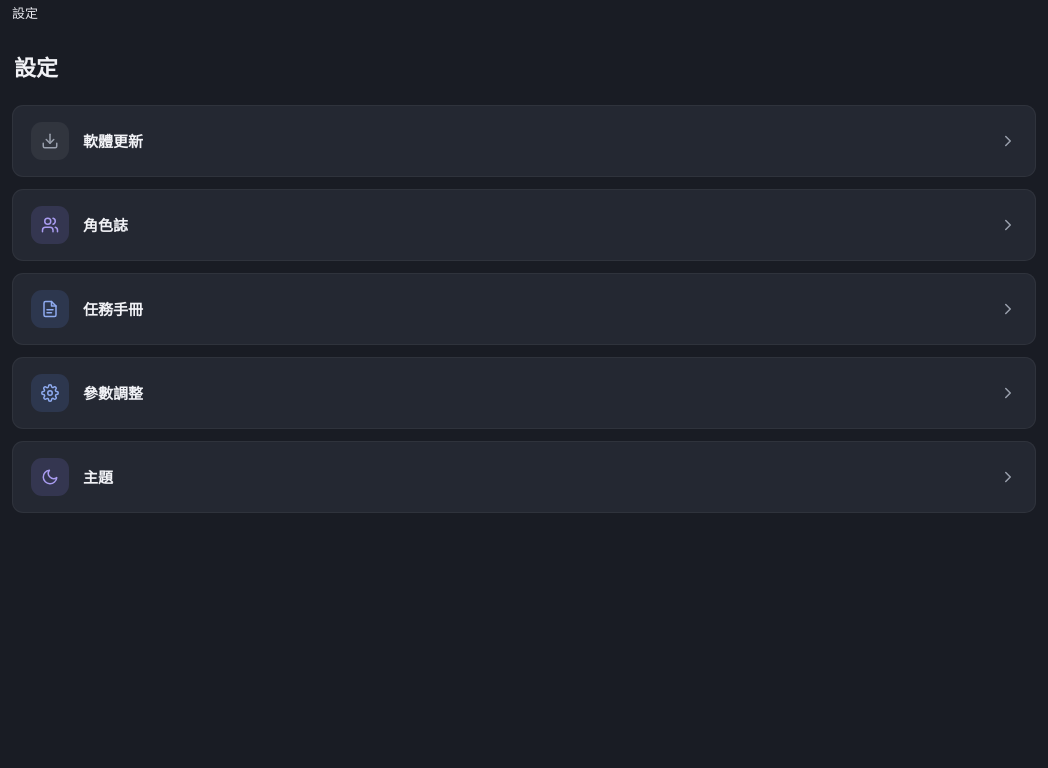
Test case: SettingsPage · 角色誌 新增角色定義 (inline row) › a blank 角色名 surfaces the honest error and creates nothing
Step 1. Click the button "角色誌" → x=50, y=224, box [12,188,1036,260]
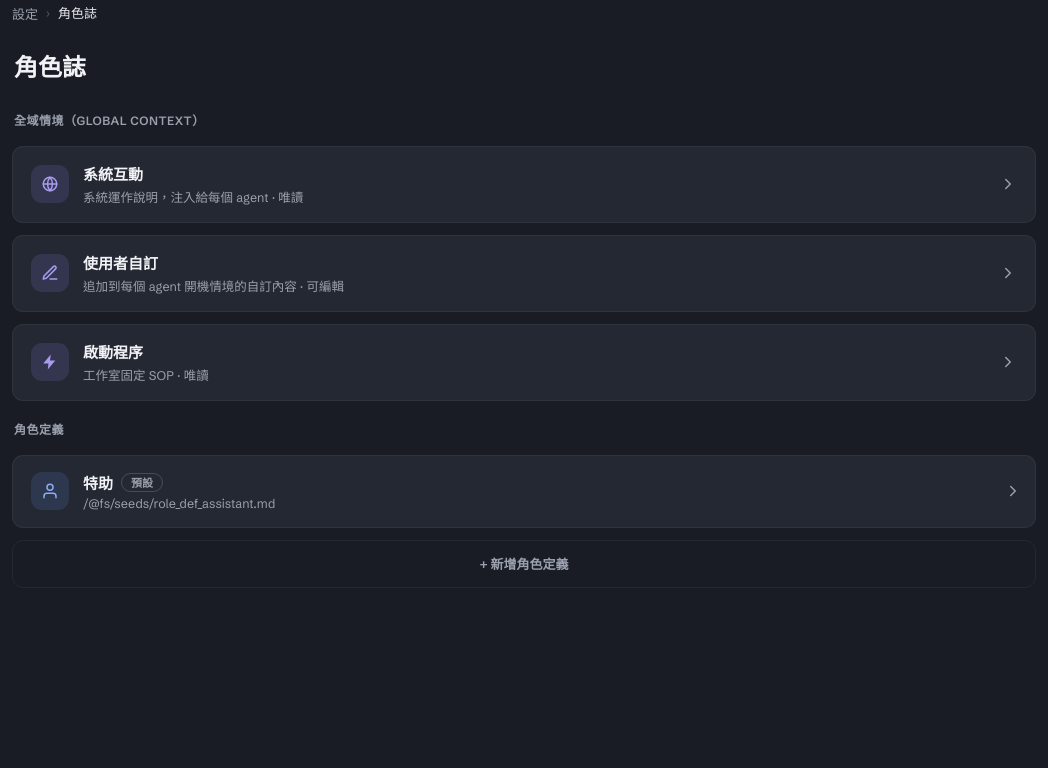
Expected: the text "系統互動" is shown, [83,164,143,184]
Step 2. Click the button "+ 新增角色定義" → x=524, y=564, box [12,540,1036,588]
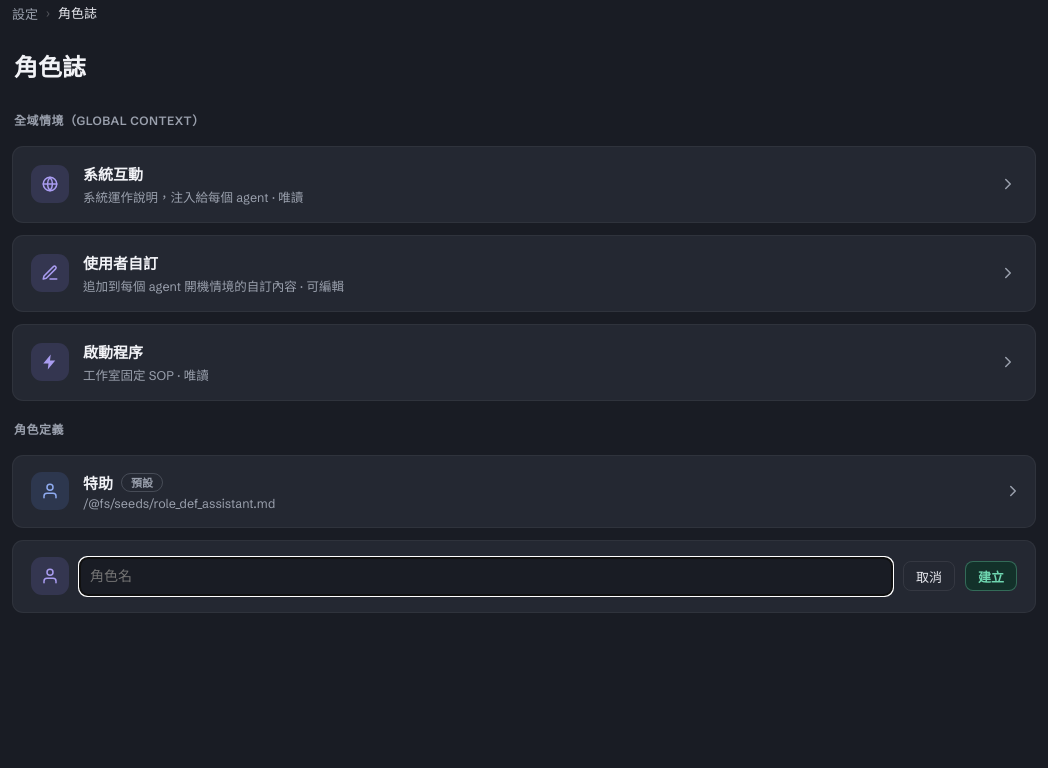
Step 3. Click the button with test id "role-create-submit" → x=991, y=576, box [965,561,1017,591]
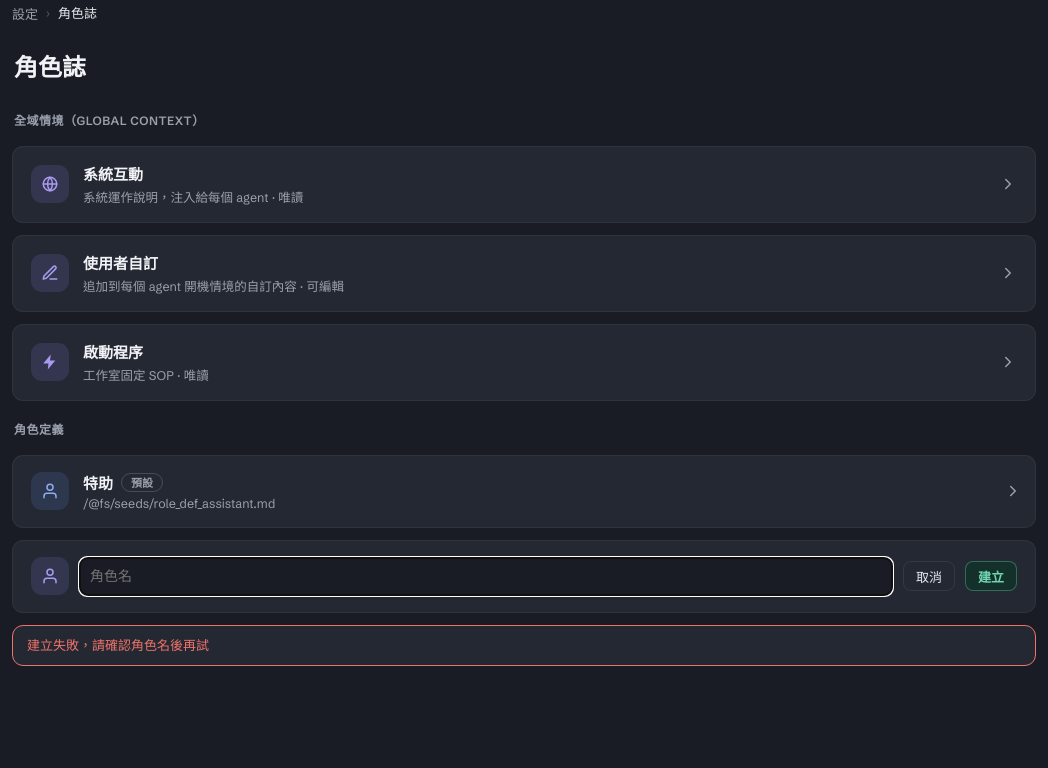
Expected: the text "建立失敗，請確認角色名後再試" is shown, [12,624,1036,666]
